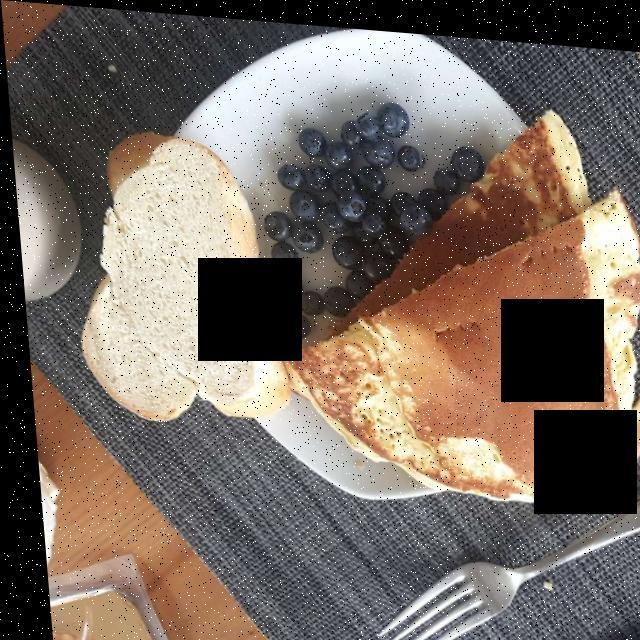blueberries: (265, 92, 466, 333)
bread: (72, 137, 294, 436)
pancakes: (282, 94, 640, 497)
